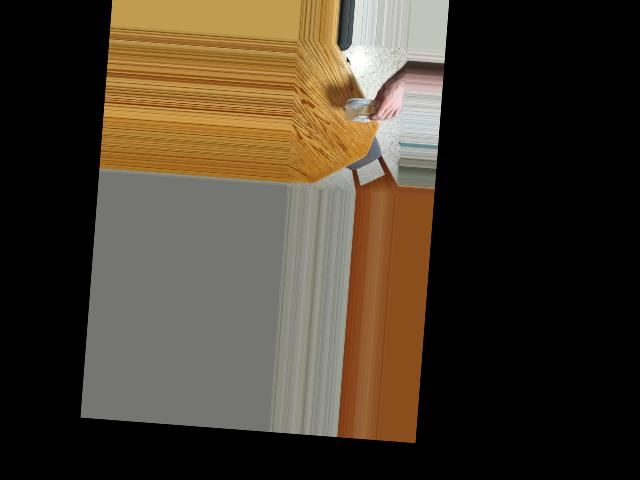cheese: (346, 89, 393, 131)
